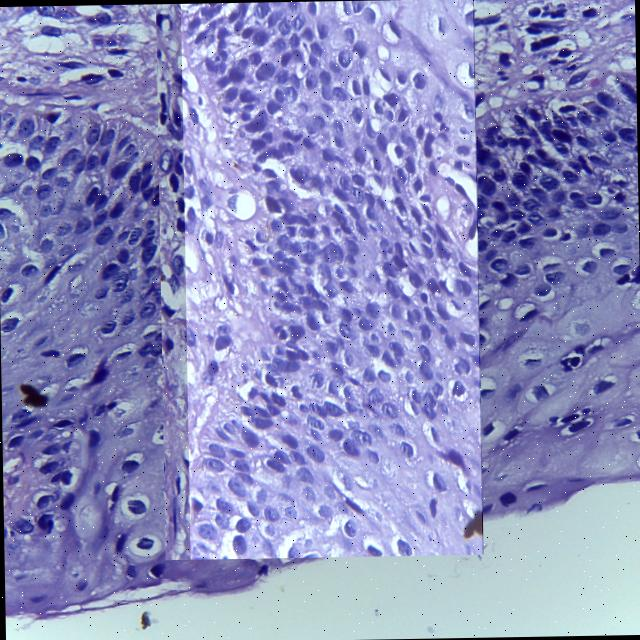Nuclear Hyperchromatism: (185, 0, 478, 558)
